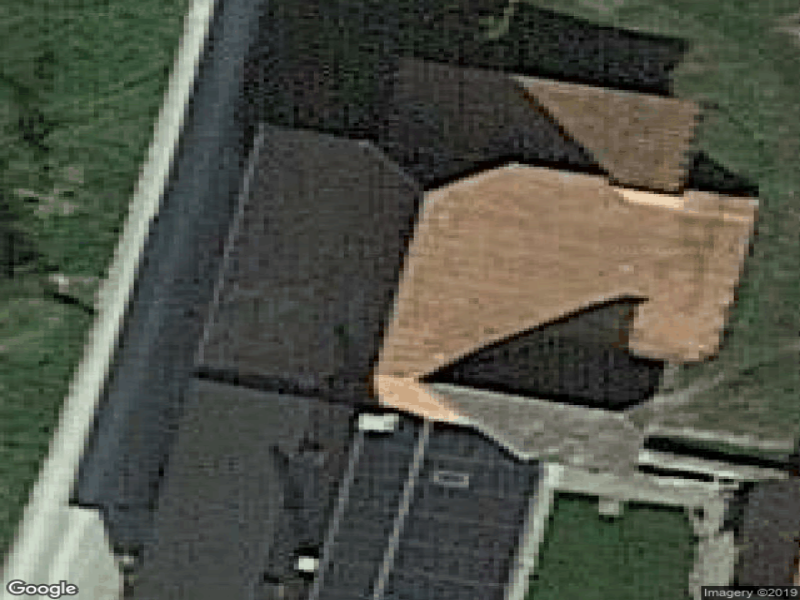pv: (315, 419, 541, 600)
